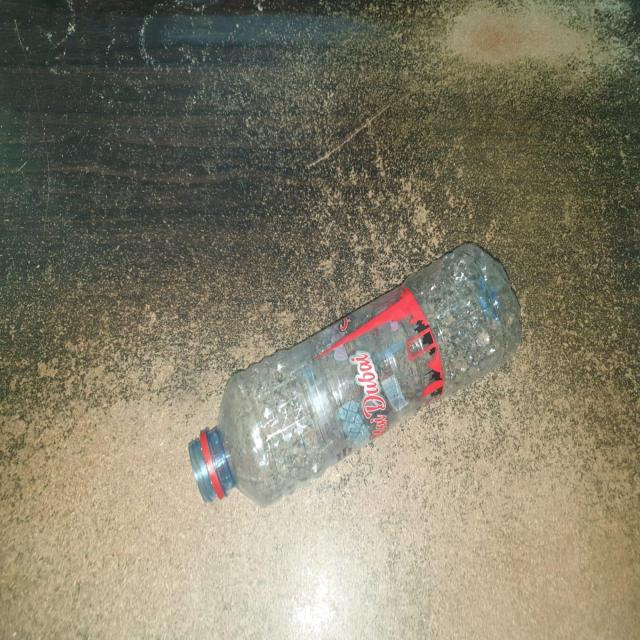bottle: (168, 248, 514, 504)
